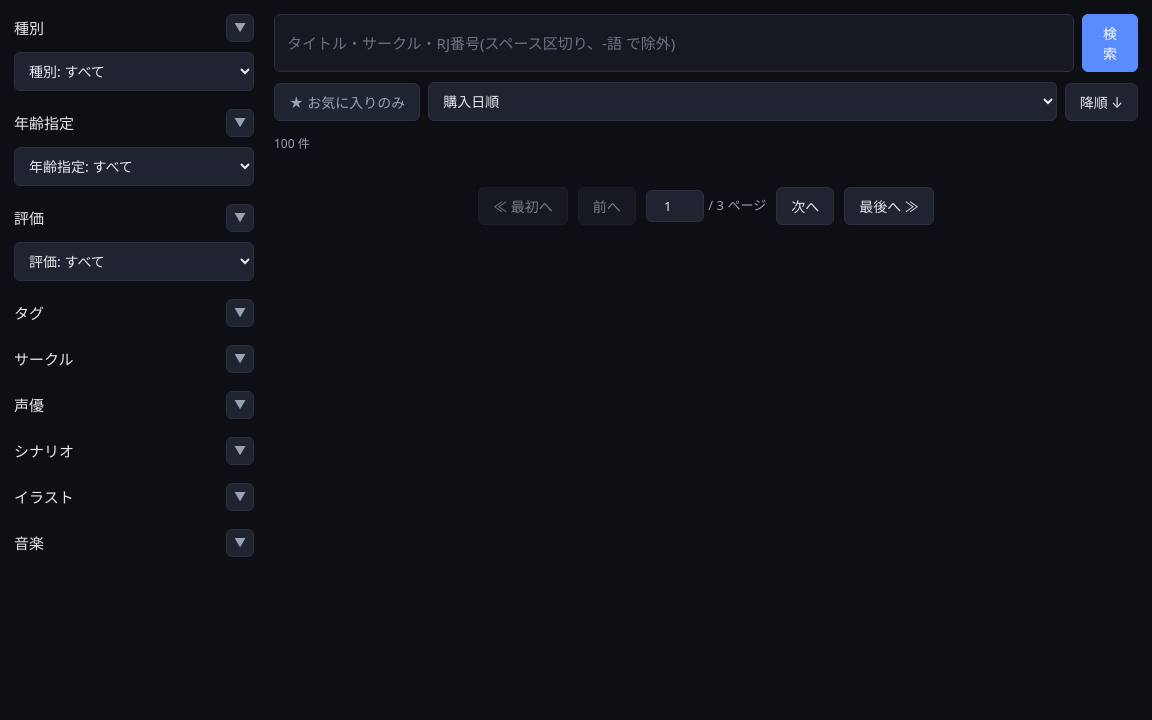
Test case: ページャーの数値入力化 (#35) › 数値入力欄に総ページ数を超える値を入れて Enter すると総ページ数にクランプされる
The width and height of the screenshot is (1152, 720).
Replace the text in the number field named "ページ番号" with "99": (675, 206) [646, 190, 704, 222]
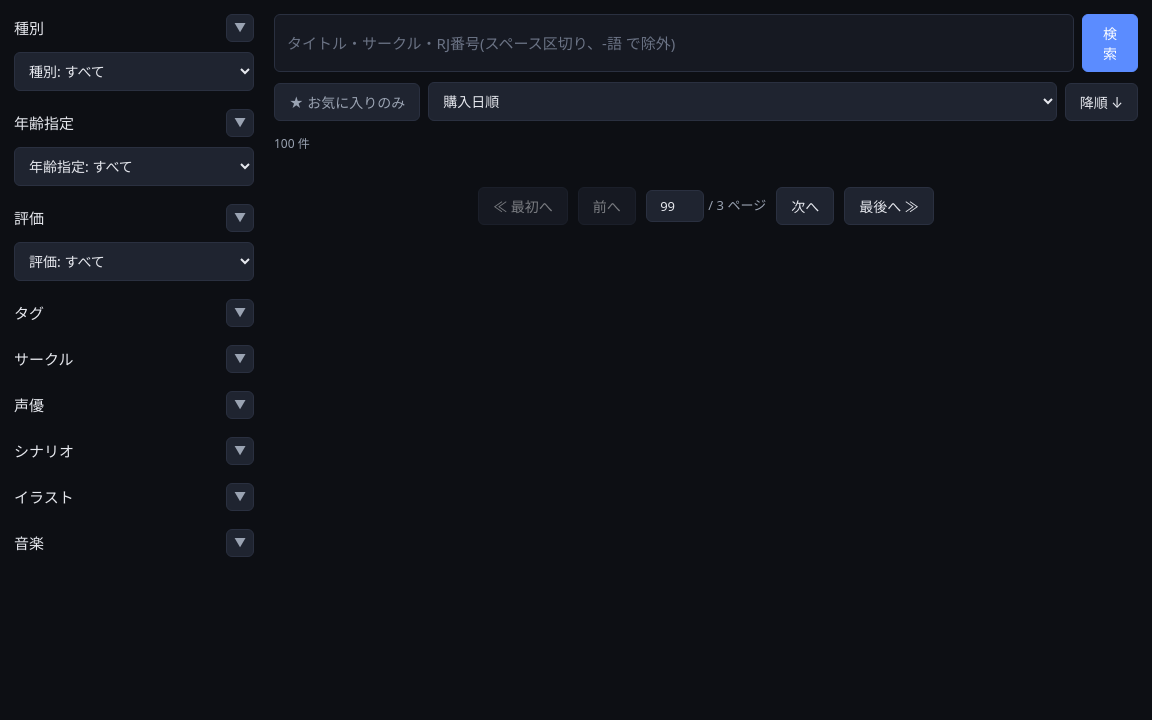
Press Enter in the number field named "ページ番号", box [646, 190, 704, 222]
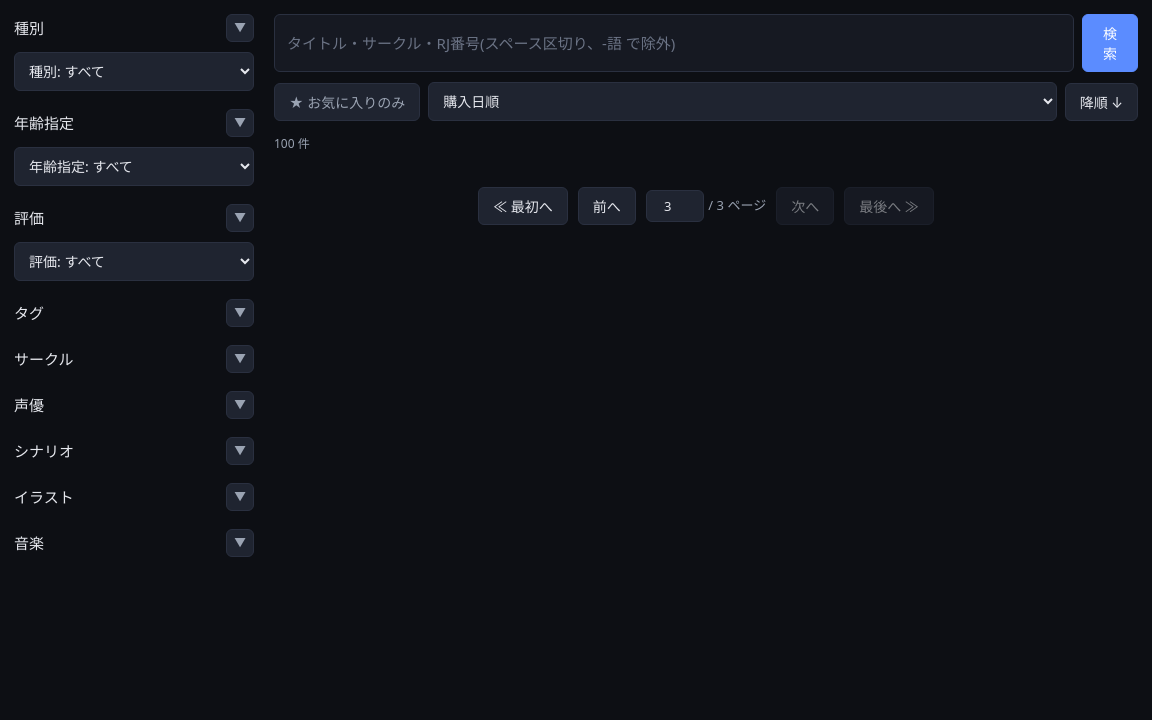
Check: the number field named "ページ番号" holds "3", box [646, 190, 704, 222]
